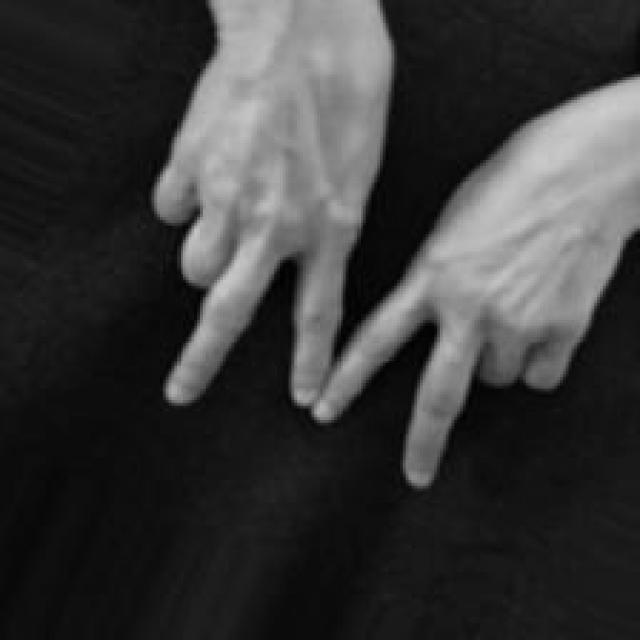M: (153, 66, 640, 494)
